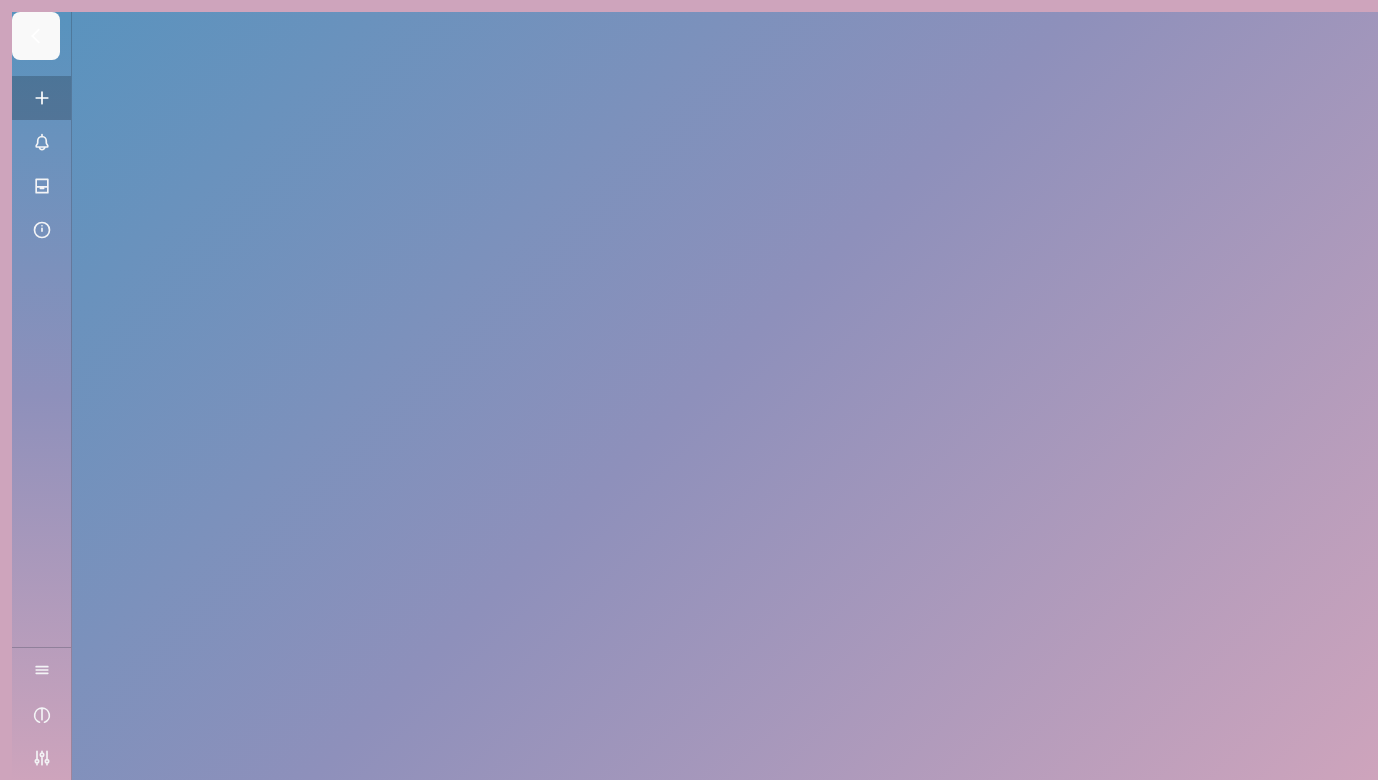
Test case: SideNav › shows loading state when conversations are loading
Note: Click expand button to show conversations
Click the button named "expand". click: (36, 36)
box: [12, 12, 60, 60]
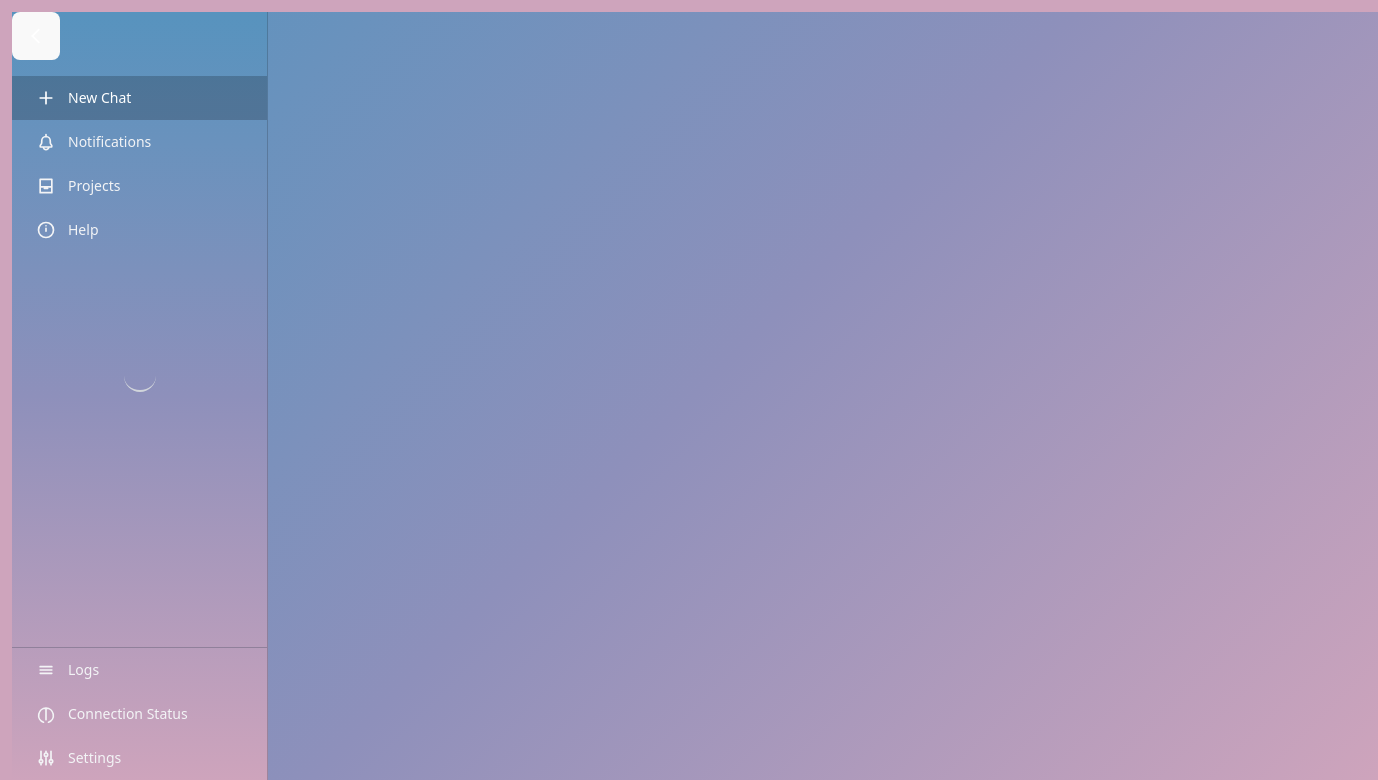
Check: the navigation bar with test id "sidenav-content" is shown, box [12, 76, 267, 392]
Check: the element with class "animate-spin" is shown, box [124, 360, 156, 392]
